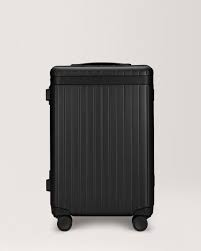suitcase: (45, 60, 158, 232)
